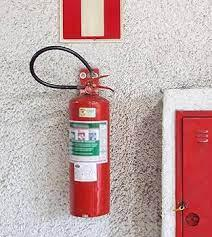cabinet: (175, 110, 212, 237)
wall-mounted: (30, 50, 122, 225)
